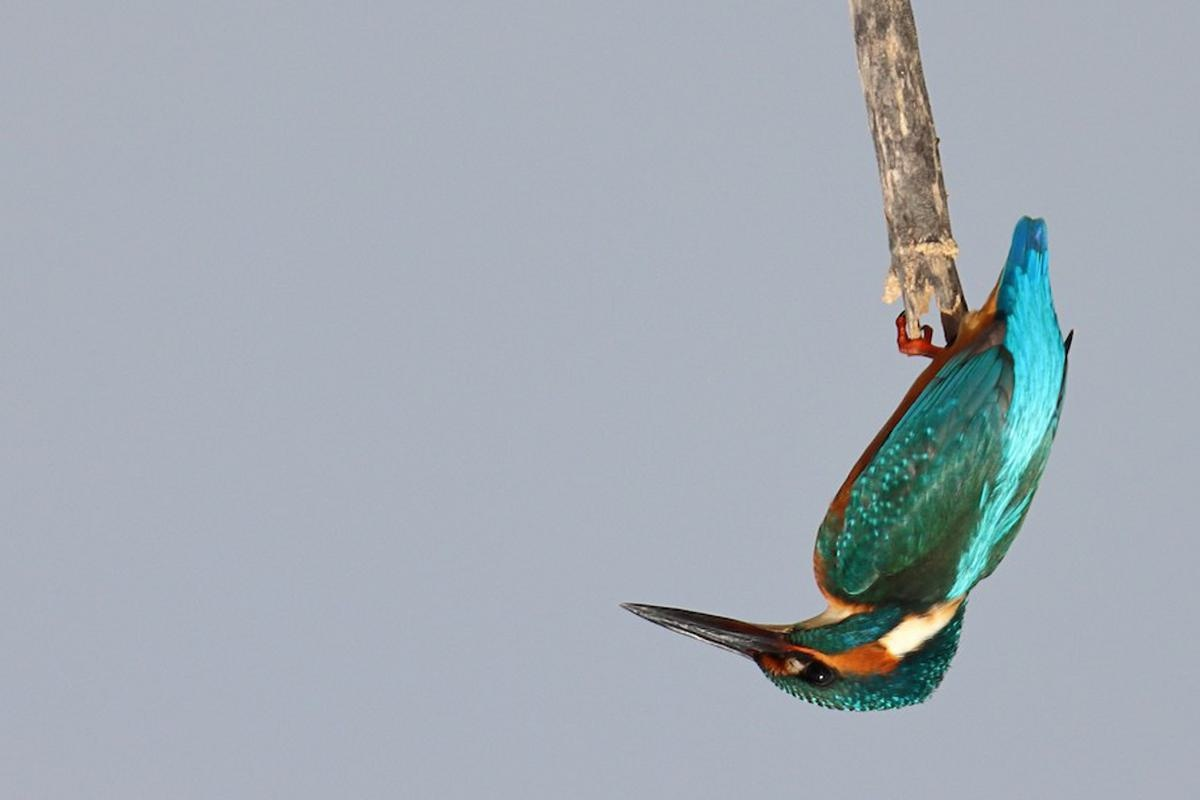kingfisher: (614, 227, 1089, 748)
